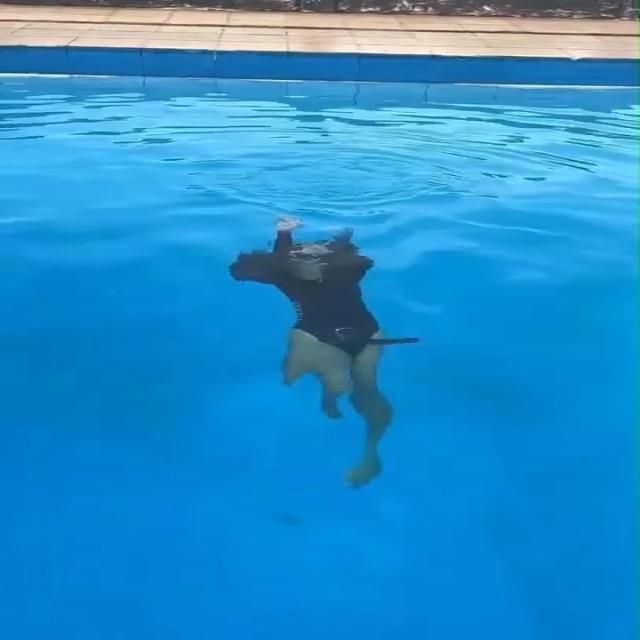Drowning: (225, 215, 424, 493)
